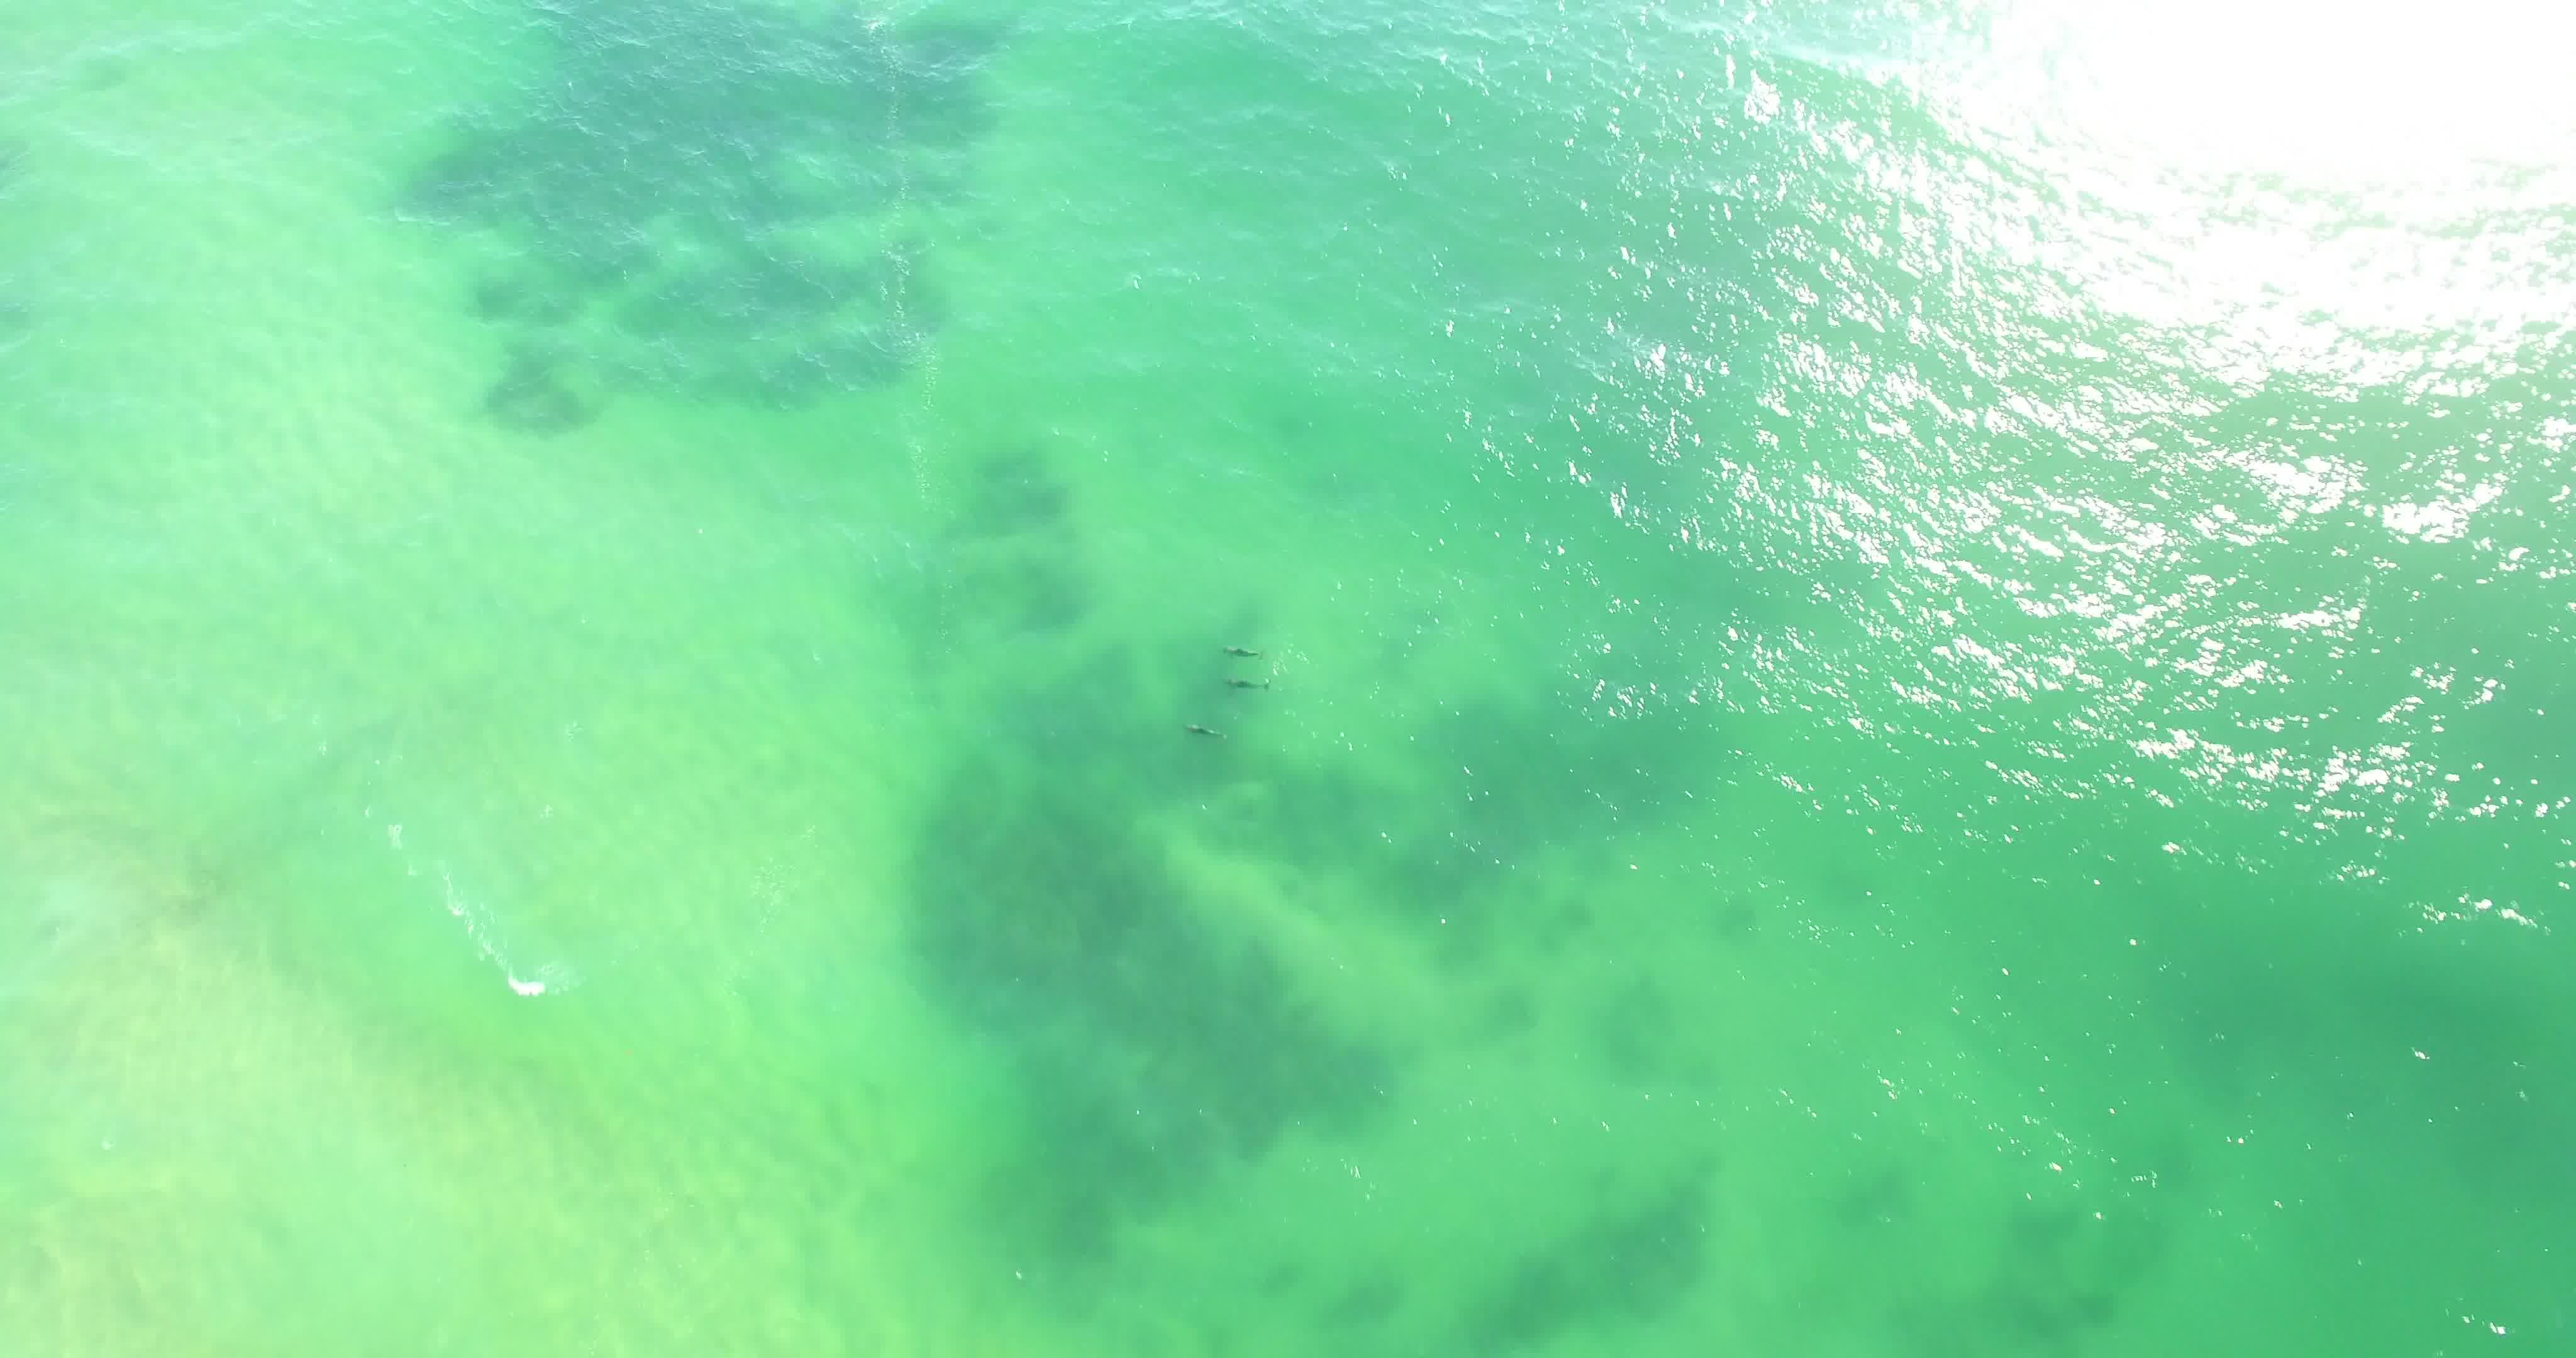dolphin: (1189, 659, 1286, 700), (1181, 702, 1245, 760), (1189, 627, 1268, 670)
